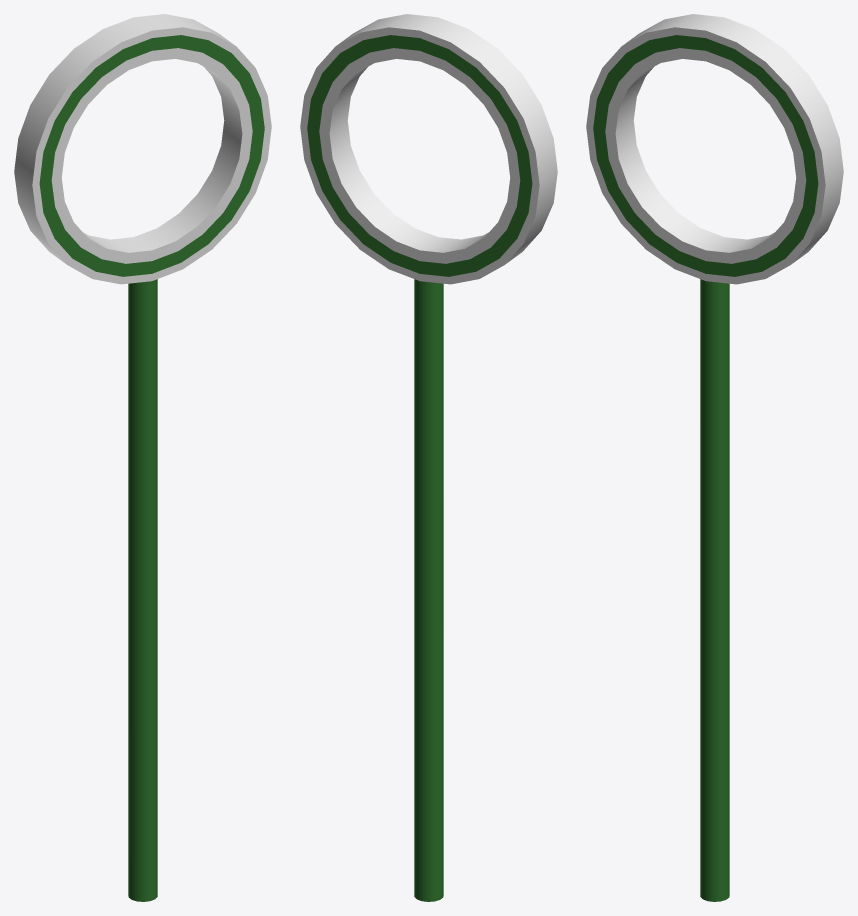
File: Ring A.fbx
3 views of the same model, side by side, from view 1: azimuth 30°, elevation 25°; view 2: azimuth 150°, elevation 25°; view 3: azimuth 330°, elevation 25° (orthographic).
Parts seen in each view (by area): view 1: Ring A, Ring A.001; view 2: Ring A, Ring A.001; view 3: Ring A, Ring A.001.
Part boxes in pixels (box(x1,y1,x2,y2)): Ring A: box(14, 14, 271, 284); Ring A.001: box(128, 279, 157, 901); Ring A: box(300, 14, 557, 284); Ring A.001: box(414, 279, 443, 901); Ring A: box(586, 14, 843, 284); Ring A.001: box(700, 279, 729, 901).
Bounding box in the file's own units: 154 × 535 × 20.45.
